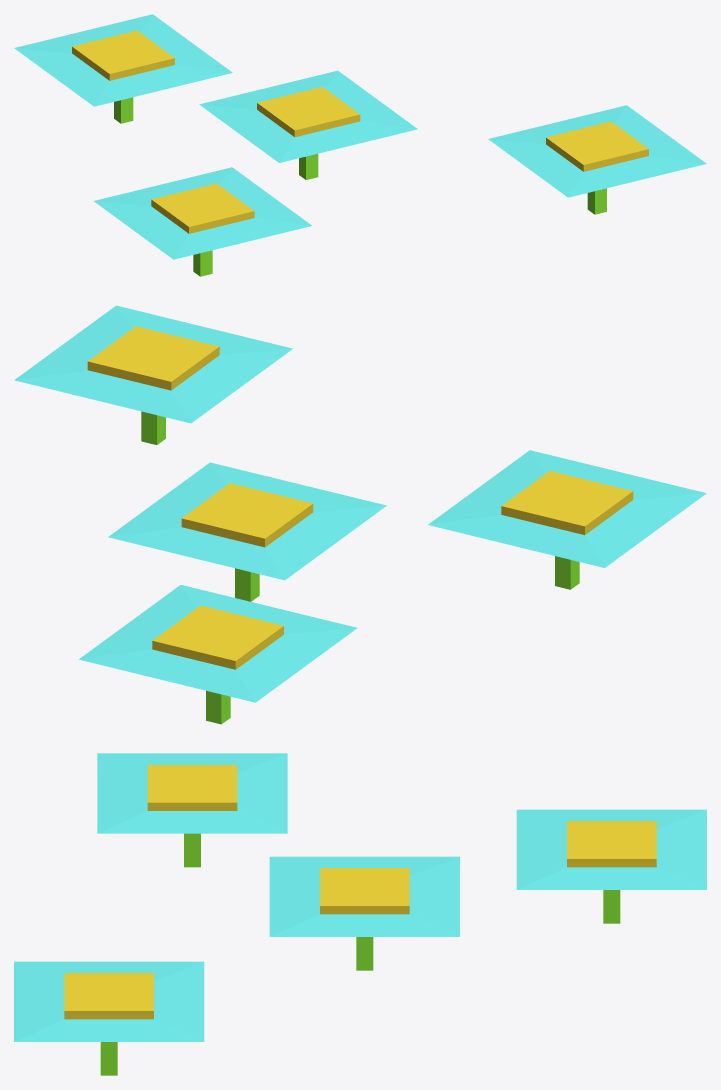
File: Flower_Skyblue.fbx
The picture shows the model from 3 angles, top to bottom: view 1: azimuth 30°, elevation 25°; view 2: azimuth 150°, elevation 25°; view 3: azimuth 270°, elevation 25°; orthographic projection. The views are drawn at different scales.
Parts seen in each view (by area): view 1: Cube.003, Cube, Cube.001, Cube.002; view 2: Cube.001, Cube, Cube.002, Cube.003; view 3: Cube, Cube.001, Cube.003, Cube.002.
Part boxes in pixels (x1,y1,x2,y2): Cube.003: [14, 14, 232, 123]; Cube: [199, 70, 417, 179]; Cube.001: [488, 105, 706, 214]; Cube.002: [94, 167, 311, 276]; Cube.001: [14, 305, 292, 444]; Cube: [108, 462, 386, 601]; Cube.002: [428, 450, 706, 589]; Cube.003: [79, 585, 357, 724]; Cube: [269, 856, 459, 970]; Cube.001: [14, 961, 204, 1075]; Cube.003: [516, 809, 706, 923]; Cube.002: [97, 753, 287, 867].
Bounding box in the file's own units: 0.9192 × 0.1189 × 0.9326.
